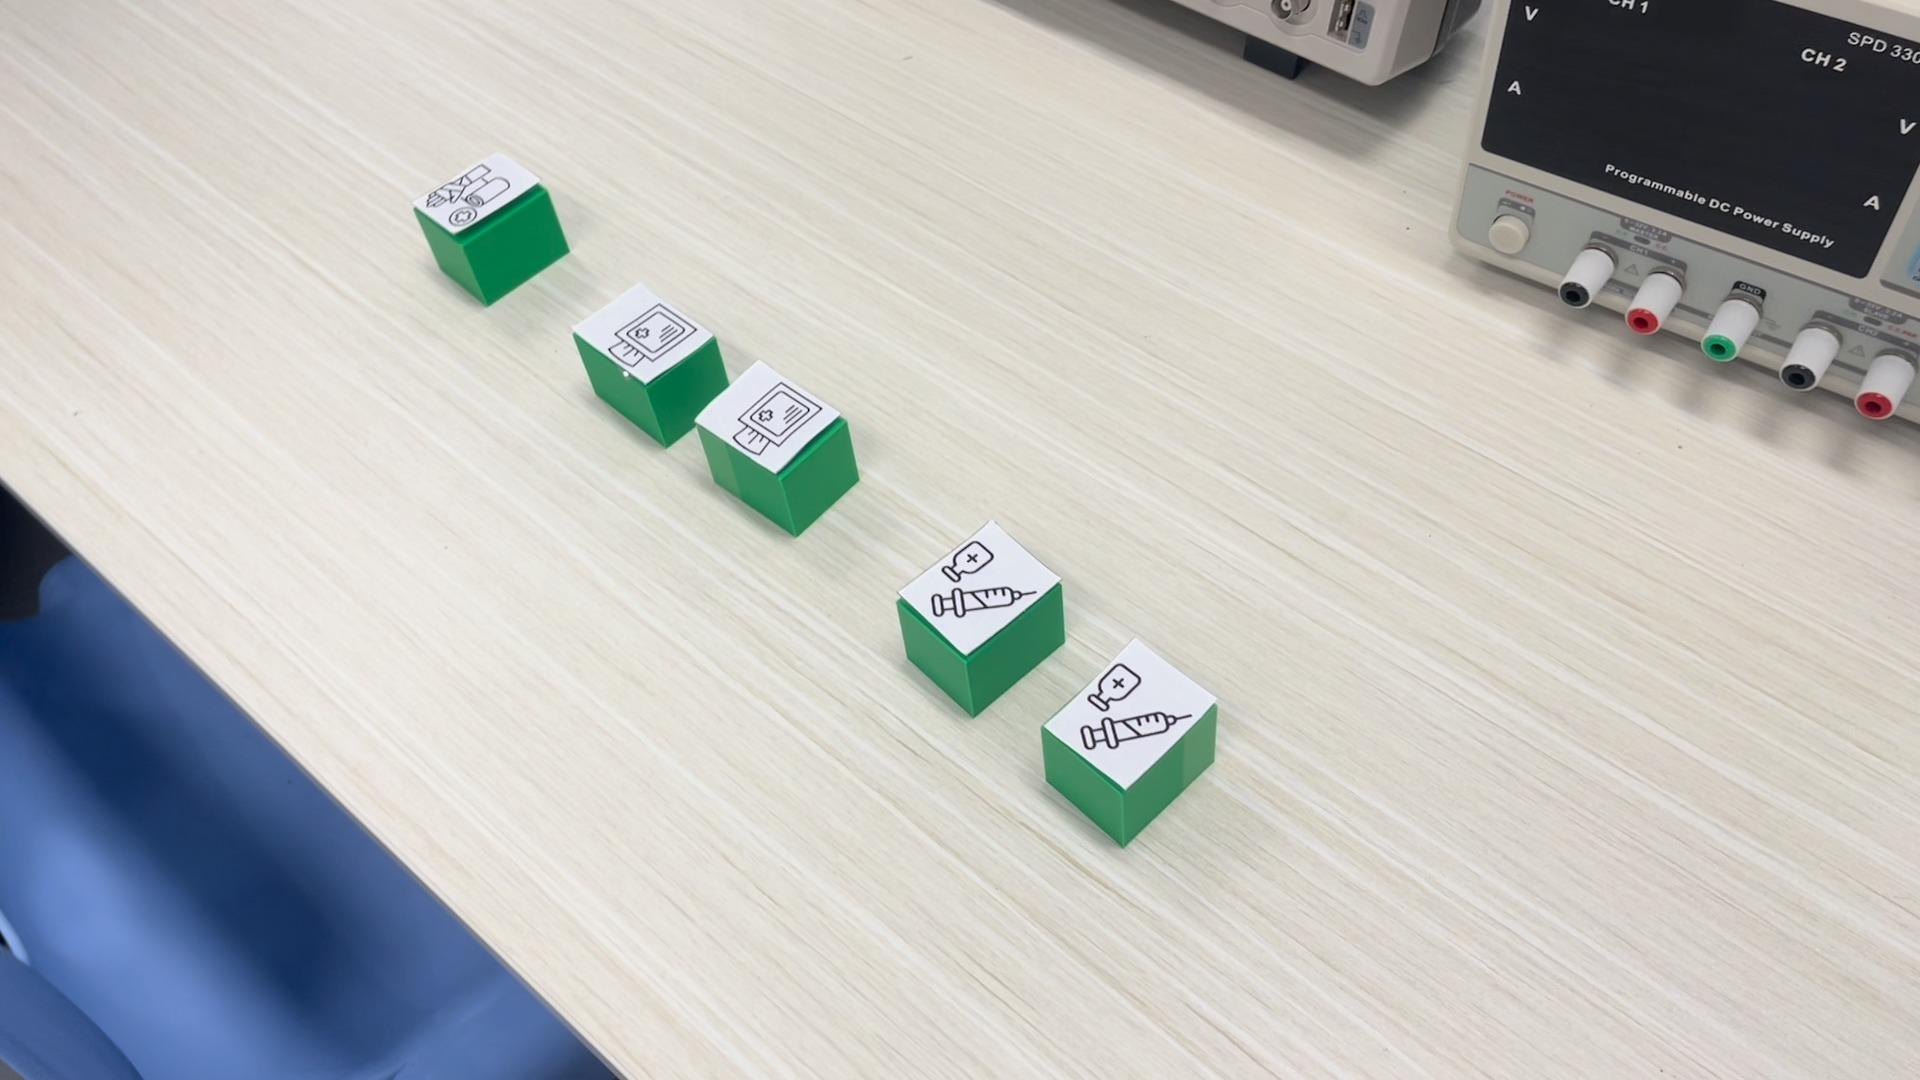Bandages: (411, 148, 570, 307)
Gauze: (568, 280, 764, 451), (696, 360, 862, 539)
antiseptic cream: (1036, 637, 1220, 847), (894, 520, 1067, 717)
